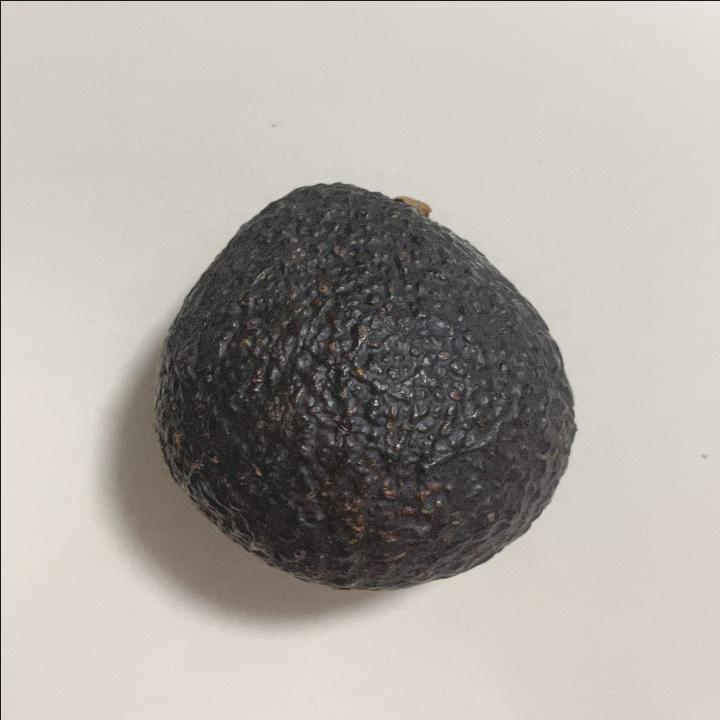Level3: (140, 170, 586, 600)
